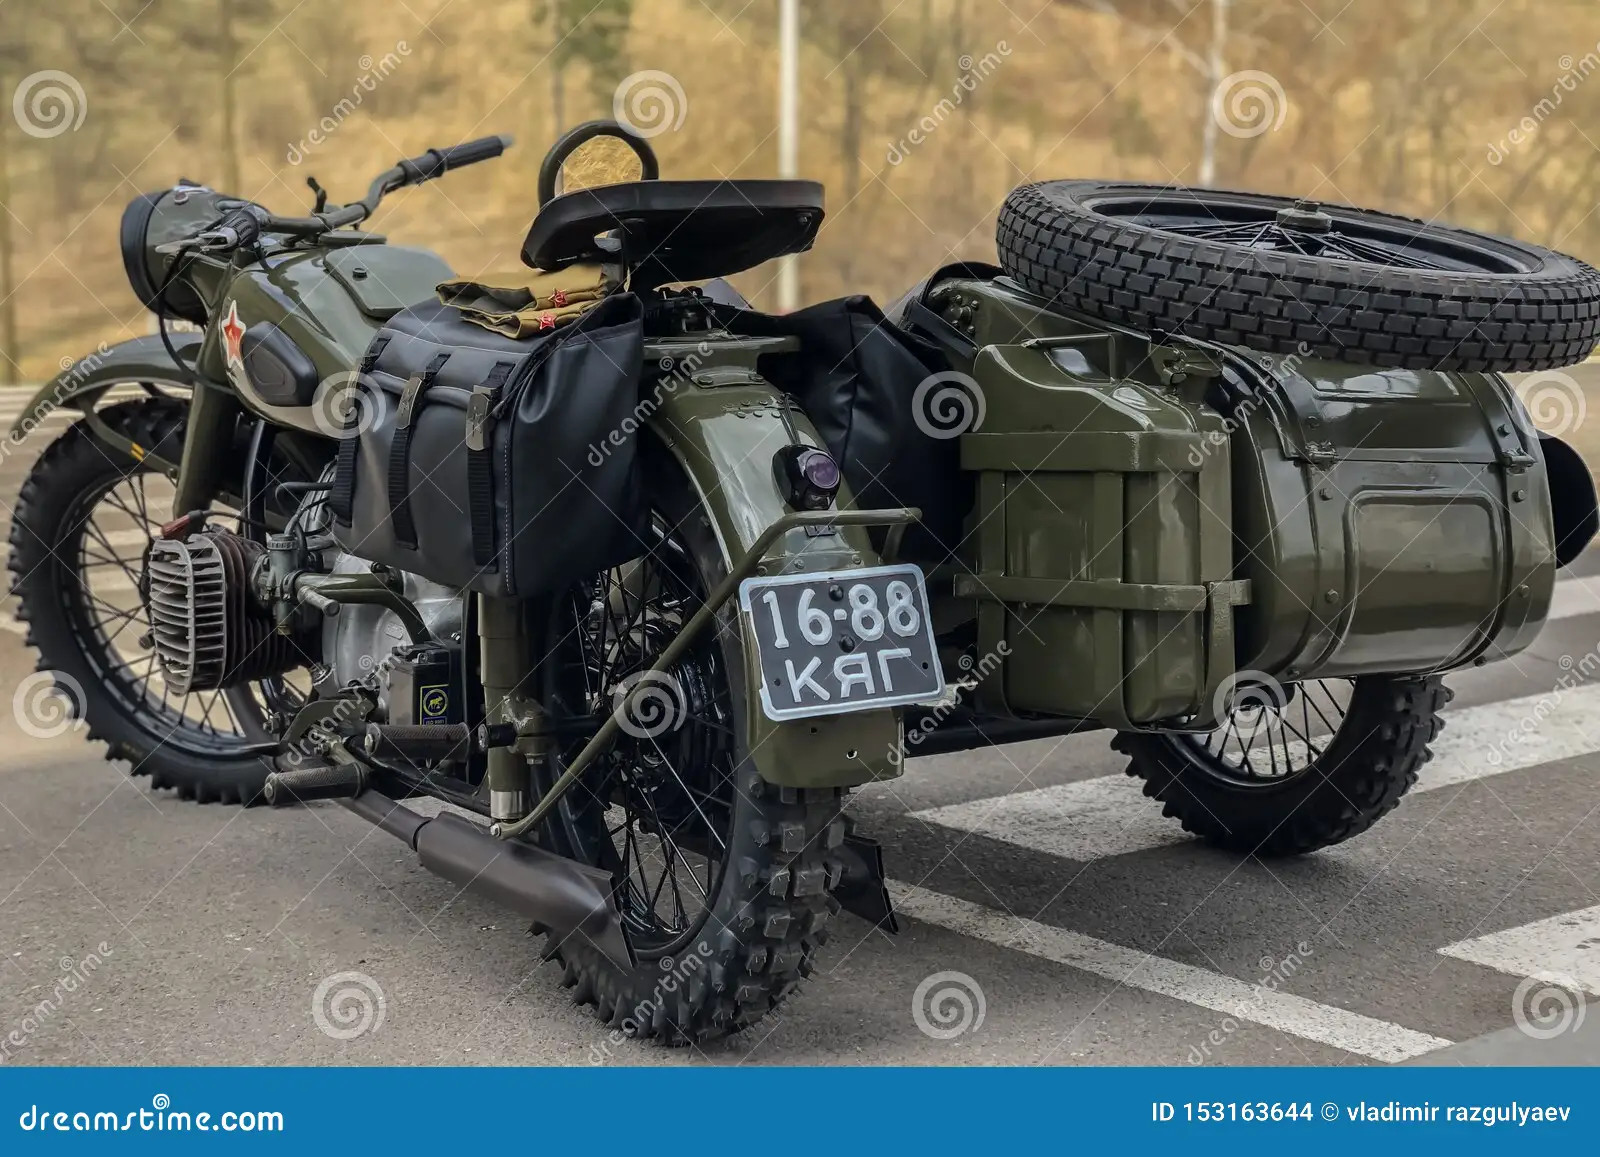bike: (7, 118, 1593, 1044)
